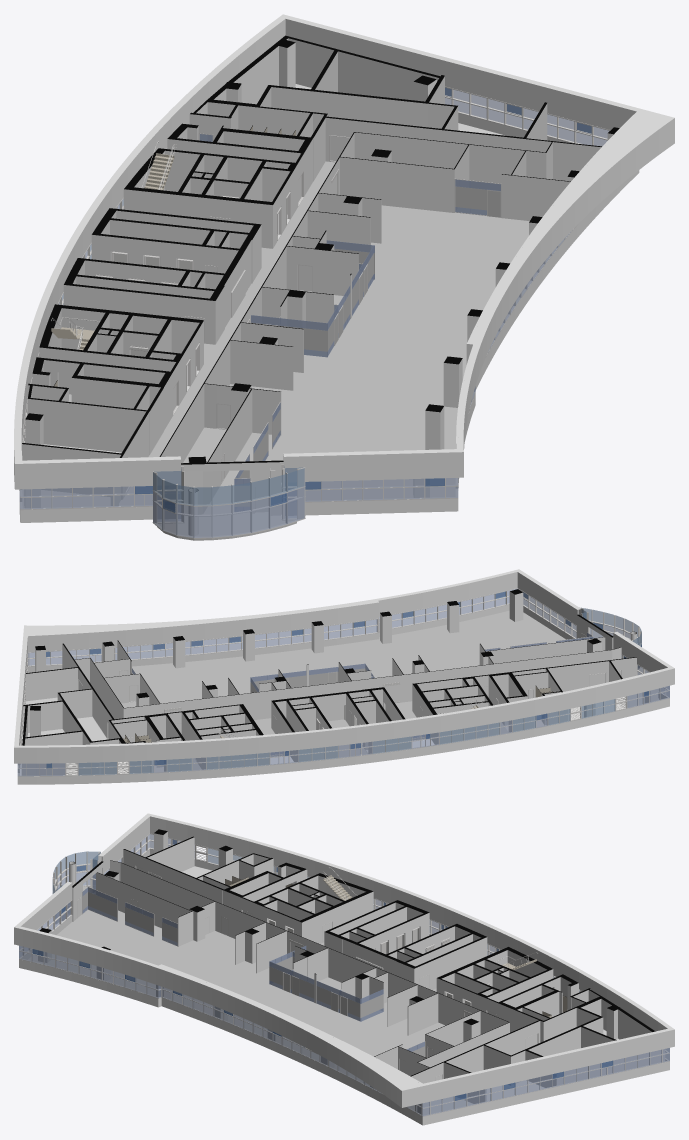
The picture shows the model from 3 angles, top to bottom: view 1: azimuth 30°, elevation 25°; view 2: azimuth 150°, elevation 25°; view 3: azimuth 270°, elevation 25°; orthographic projection. The views are drawn at different scales.
Visible parts, largest first — view 1: A1-22F-Wall1, A1-22F-Floor, A1-22F-Dry Wall, A1-22F-In Dry Wall, A1-22F-Glass1, A1-22F-Column, A1-22F-Frame, A1-22F-Glass Wall, A1-22F-Door, A1-22F-Glass2, A1-22F-Wall2, A1-22F-Stairs (+2 smaller); view 2: A1-22F-Wall1, A1-22F-In Dry Wall, A1-22F-Floor, A1-22F-Dry Wall, A1-22F-Glass1, A1-22F-Frame, A1-22F-Glass2, A1-22F-Column, A1-22F-Door, A1-22F-Glass Wall, A1-22F-Glass3, A1-22F-Vent (+1 smaller); view 3: A1-22F-Wall1, A1-22F-In Dry Wall, A1-22F-Dry Wall, A1-22F-Floor, A1-22F-Glass1, A1-22F-Glass Wall, A1-22F-Frame, A1-22F-Column, A1-22F-Door, A1-22F-Glass2, A1-22F-Glass3, A1-22F-Elevator (+2 smaller).
Part boxes in pixels (<box>): A1-22F-Wall1: <box>21,35,601,514</box>; A1-22F-Floor: <box>22,84,536,540</box>; A1-22F-Dry Wall: <box>14,14,674,489</box>; A1-22F-In Dry Wall: <box>19,17,639,522</box>; A1-22F-Glass1: <box>19,90,608,537</box>; A1-22F-Column: <box>24,40,619,535</box>; A1-22F-Frame: <box>19,86,610,538</box>; A1-22F-Glass Wall: <box>234,178,501,511</box>; A1-22F-Door: <box>119,135,501,512</box>; A1-22F-Glass2: <box>62,199,304,505</box>; A1-22F-Wall2: <box>181,460,283,515</box>; A1-22F-Stairs: <box>51,141,176,350</box>; A1-22F-Wall1: <box>22,637,636,775</box>; A1-22F-In Dry Wall: <box>17,571,669,784</box>; A1-22F-Floor: <box>25,610,658,771</box>; A1-22F-Dry Wall: <box>14,569,674,763</box>; A1-22F-Glass1: <box>17,588,669,776</box>; A1-22F-Frame: <box>17,588,669,776</box>; A1-22F-Glass2: <box>78,607,641,775</box>; A1-22F-Column: <box>30,589,657,775</box>; A1-22F-Door: <box>78,633,621,760</box>; A1-22F-Glass Wall: <box>131,632,593,692</box>; A1-22F-Glass3: <box>46,591,648,768</box>; A1-22F-Vent: <box>66,696,626,775</box>; A1-22F-Wall1: <box>96,836,664,1103</box>; A1-22F-In Dry Wall: <box>19,815,669,1125</box>; A1-22F-Dry Wall: <box>14,813,674,1107</box>; A1-22F-Floor: <box>28,866,619,1113</box>; A1-22F-Glass1: <box>19,834,669,1116</box>; A1-22F-Glass Wall: <box>82,887,425,1056</box>; A1-22F-Frame: <box>19,833,669,1116</box>; A1-22F-Column: <box>38,829,620,1115</box>; A1-22F-Door: <box>77,866,538,1080</box>; A1-22F-Glass2: <box>52,848,579,992</box>; A1-22F-Glass3: <box>32,839,613,1100</box>; A1-22F-Elevator: <box>267,911,489,1005</box>.
Size of the model in its own units: 71.25 by 5.2 by 71.71.
